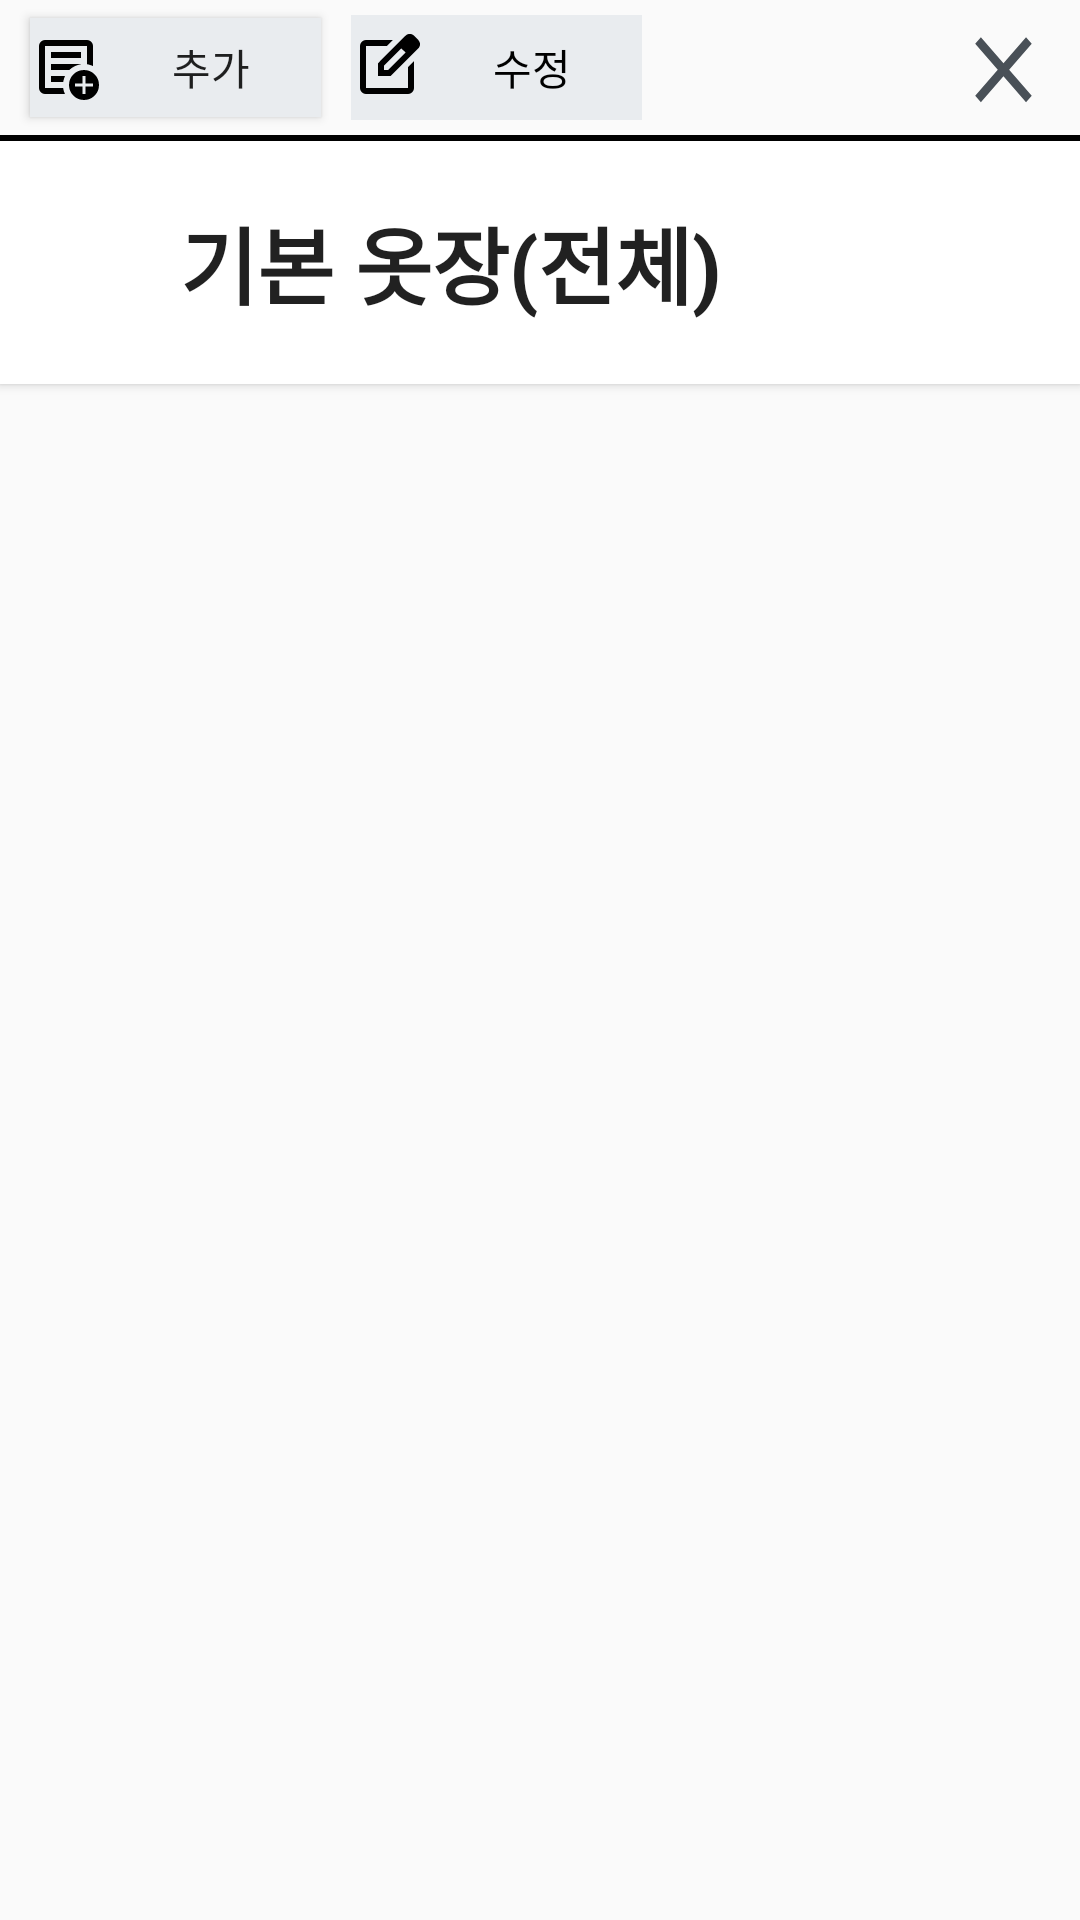

Screen size 1080×1920. Icon name, then its center in pixels as (x,y):
xmark: (1003,69)
